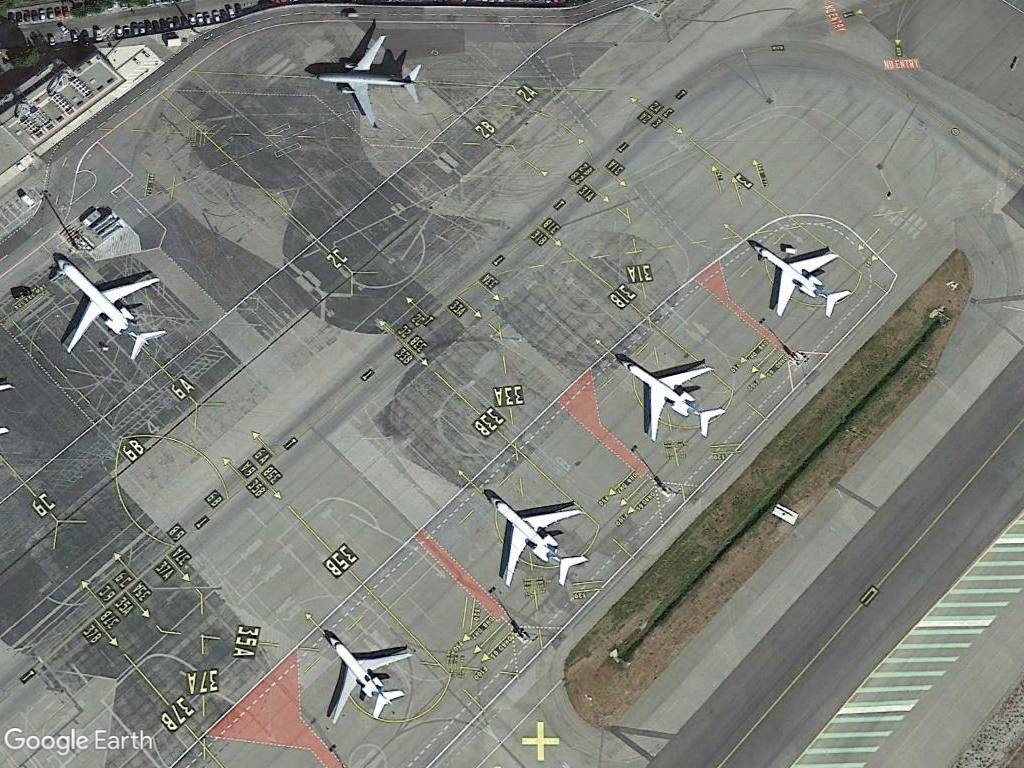chartered: (47, 251, 169, 364), (482, 489, 591, 589), (615, 352, 727, 443), (317, 625, 415, 726), (747, 235, 853, 320)
